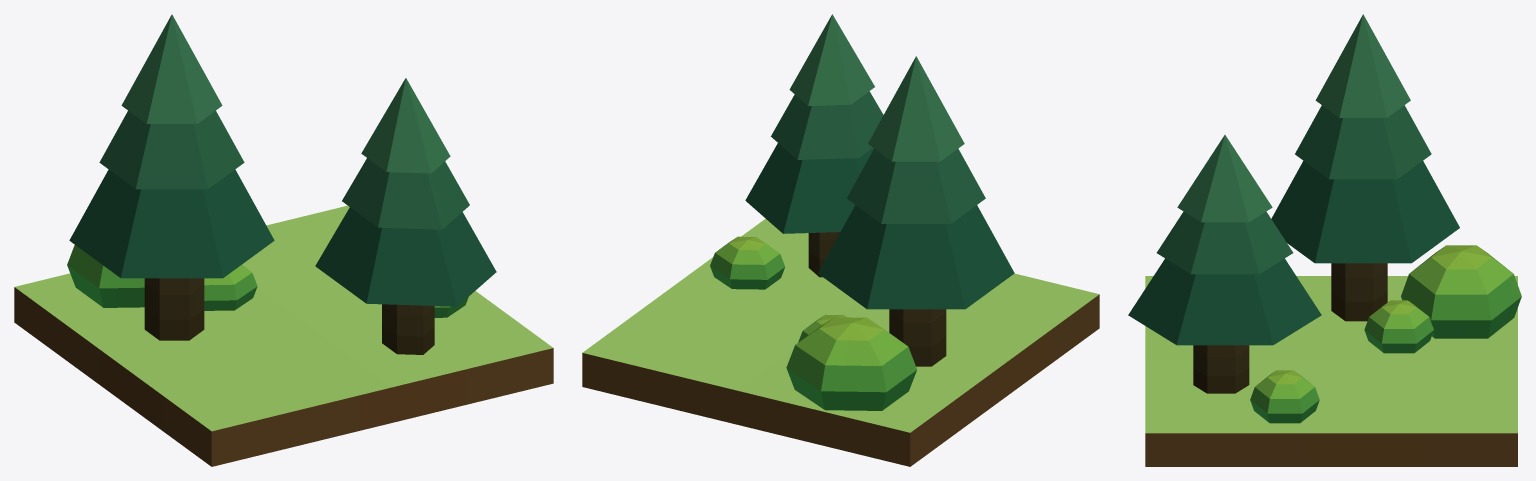
File: compo sapin.fbx
3 views of the same model, side by side, from view 1: azimuth 30°, elevation 25°; view 2: azimuth 150°, elevation 25°; view 3: azimuth 270°, elevation 25° (orthographic). The views are drawn at different scales.
Parts seen in each view (by area): view 1: sapin2.002; view 2: sapin2.002; view 3: sapin2.002.
Part boxes in pixels (bbox=[...]): sapin2.002: bbox=[14, 14, 553, 466]; sapin2.002: bbox=[582, 14, 1099, 466]; sapin2.002: bbox=[1128, 14, 1521, 466].
Bounding box in the file's own units: 201 × 211 × 196.
